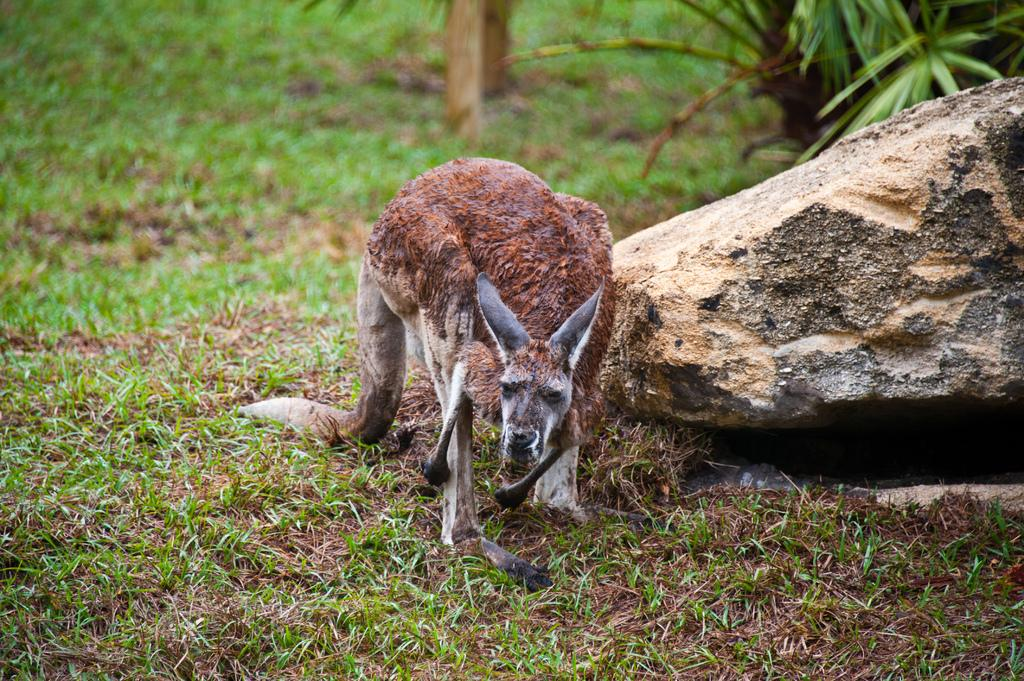kangaroo: (230, 157, 618, 591)
